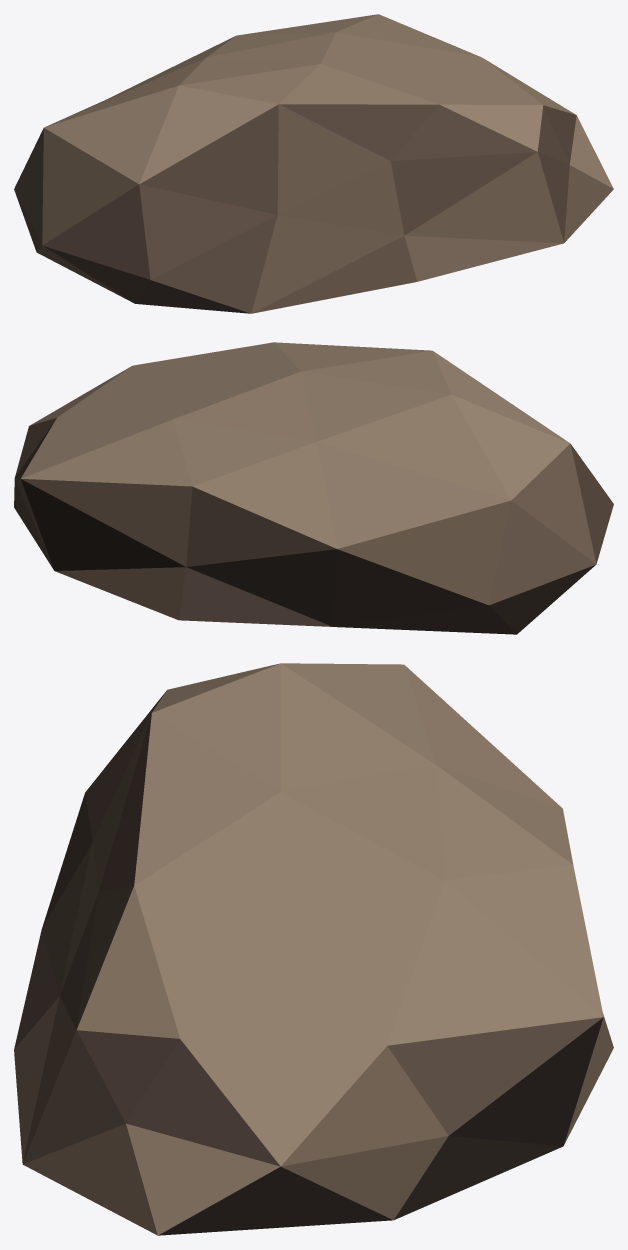
Rendered from kamen-stredni-2.glb.
The picture shows the model from 3 angles, top to bottom: view 1: azimuth 30°, elevation 25°; view 2: azimuth 150°, elevation 25°; view 3: azimuth 270°, elevation 25°; orthographic projection. The views are drawn at different scales.
Visible parts, largest first — view 1: kamen-stredni-2; view 2: kamen-stredni-2; view 3: kamen-stredni-2.
Part boxes in pixels (<box>): kamen-stredni-2: <box>14,14,613,313</box>; kamen-stredni-2: <box>14,342,613,634</box>; kamen-stredni-2: <box>14,663,613,1235</box>.
Size of the model in its own units: 2.87 by 0.8798 by 1.78.
